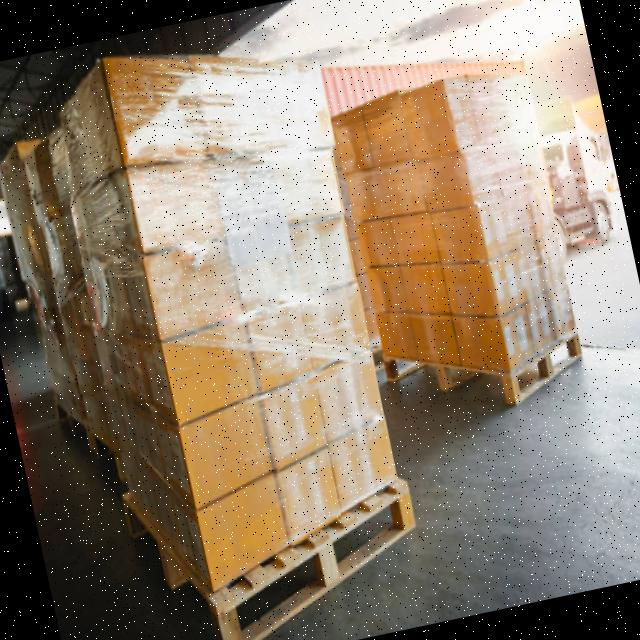Wooden-Pallets: (213, 471, 419, 640), (385, 324, 591, 414)
